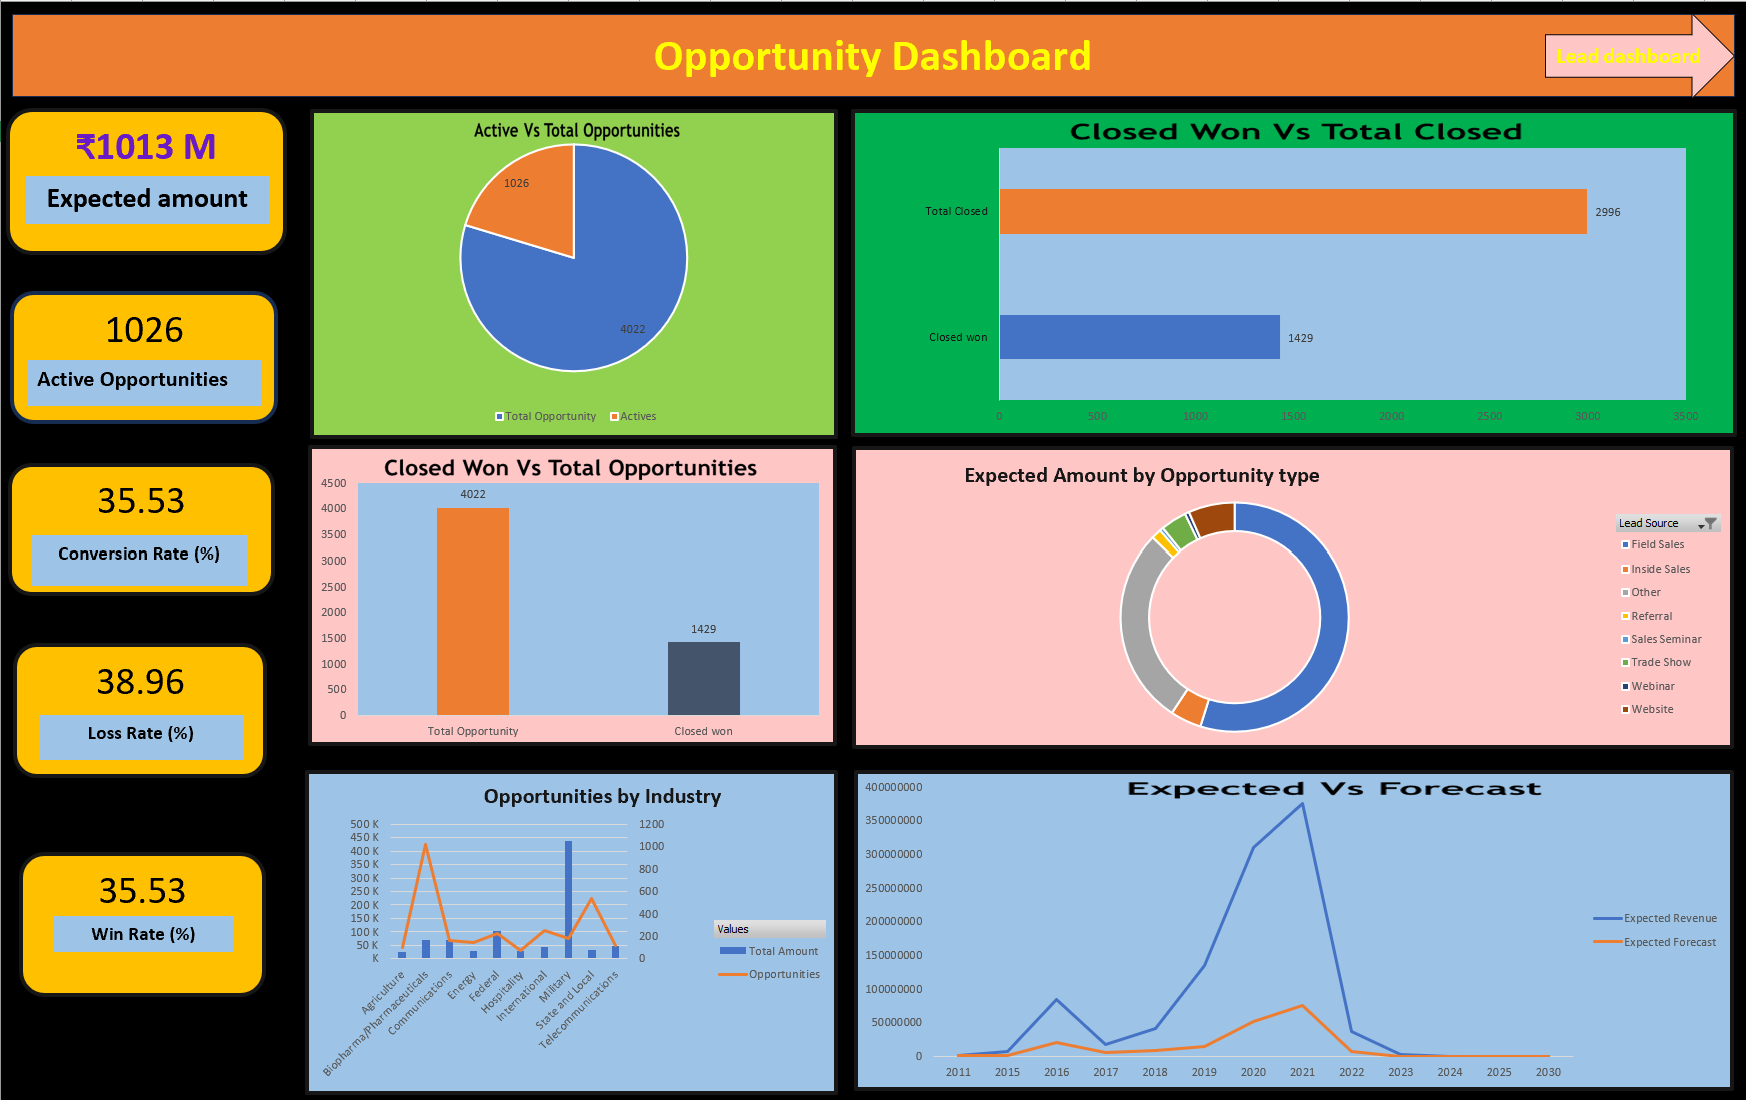

What the dashboard file says about the page in this screenshot:
{"tool":"tableau","page":{"name":"Opportunity Dashboard","canvas":[1600,900],"ordinal":1},"visuals":[{"type":"text","box":[9,6,1581,79]},{"type":"image","box":[34,8,199,78]},{"type":"dashboard-object","box":[1323,24,251,52]},{"type":"worksheet","title":"Active Opportunities","mark":"Text","box":[324,95,286,158]},{"type":"worksheet","title":"Conversion Rate","mark":"Text","box":[639,95,286,158]},{"type":"worksheet","title":"Expected Amount","mark":"Text","box":[9,96,294,155]},{"type":"worksheet","title":"Win Rate %","mark":"Text","box":[954,96,303,155]},{"type":"worksheet","title":"Loss Rate %","mark":"Text","box":[1288,100,303,151]},{"type":"worksheet","title":"Closed Won Vs Total Closed","mark":"Automatic","box":[1119,266,474,296]},{"type":"filter","title":"Closed Won Vs Total Closed","param":"[federated.1us913x0iaojib1exc1v11rsi8q6].[tyr:Close Date:qk]","box":[1431,266,160,67]},{"type":"worksheet","title":"Expected Vs Forecast","mark":"Automatic","rows":["Amount","Expected Amount"],"cols":["Close Date"],"box":[10,267,533,300]},{"type":"worksheet","title":"Active Vs Total Opportunities","mark":"Bar","box":[565,267,533,298]},{"type":"filter","title":"Active Vs Total Opportunities","param":"[federated.1us913x0iaojib1exc1v11rsi8q6].[tyr:Close Date:qk]","box":[902,267,196,51]},{"type":"filter","title":"Expected Vs Forecast","param":"[federated.1us913x0iaojib1exc1v11rsi8q6].[tyr:Close Date:qk]","box":[259,270,160,68]},{"type":"worksheet","title":"Expected Amount by Opportunity Type","mark":"Pie","box":[566,585,536,296]},{"type":"worksheet","title":"Opportunities by Industry","mark":"Automatic","box":[1119,585,474,297]},{"type":"worksheet","title":"Closed Won Vs Total Opportunities","mark":"Automatic","box":[11,587,532,295]}]}

Visuals, with their boxes on the page's 1600x900 design canvas (x1, y1, x2, y2). These are canvas units, not pixel positions in the 1746x1100 screenshot, which may show the page scaled, cropped or inside an application window:
text: <bbox>9, 6, 1590, 85</bbox>
image: <bbox>34, 8, 233, 86</bbox>
dashboard-object: <bbox>1323, 24, 1574, 76</bbox>
"Active Opportunities" worksheet (Text marks): <bbox>324, 95, 610, 253</bbox>
"Conversion Rate" worksheet (Text marks): <bbox>639, 95, 925, 253</bbox>
"Expected Amount" worksheet (Text marks): <bbox>9, 96, 303, 251</bbox>
"Win Rate %" worksheet (Text marks): <bbox>954, 96, 1257, 251</bbox>
"Loss Rate %" worksheet (Text marks): <bbox>1288, 100, 1591, 251</bbox>
"Closed Won Vs Total Closed" worksheet: <bbox>1119, 266, 1593, 562</bbox>
"Closed Won Vs Total Closed" filter: <bbox>1431, 266, 1591, 333</bbox>
"Expected Vs Forecast" worksheet: <bbox>10, 267, 543, 567</bbox>
"Active Vs Total Opportunities" worksheet (Bar marks): <bbox>565, 267, 1098, 565</bbox>
"Active Vs Total Opportunities" filter: <bbox>902, 267, 1098, 318</bbox>
"Expected Vs Forecast" filter: <bbox>259, 270, 419, 338</bbox>
"Expected Amount by Opportunity Type" worksheet (Pie marks): <bbox>566, 585, 1102, 881</bbox>
"Opportunities by Industry" worksheet: <bbox>1119, 585, 1593, 882</bbox>
"Closed Won Vs Total Opportunities" worksheet: <bbox>11, 587, 543, 882</bbox>
